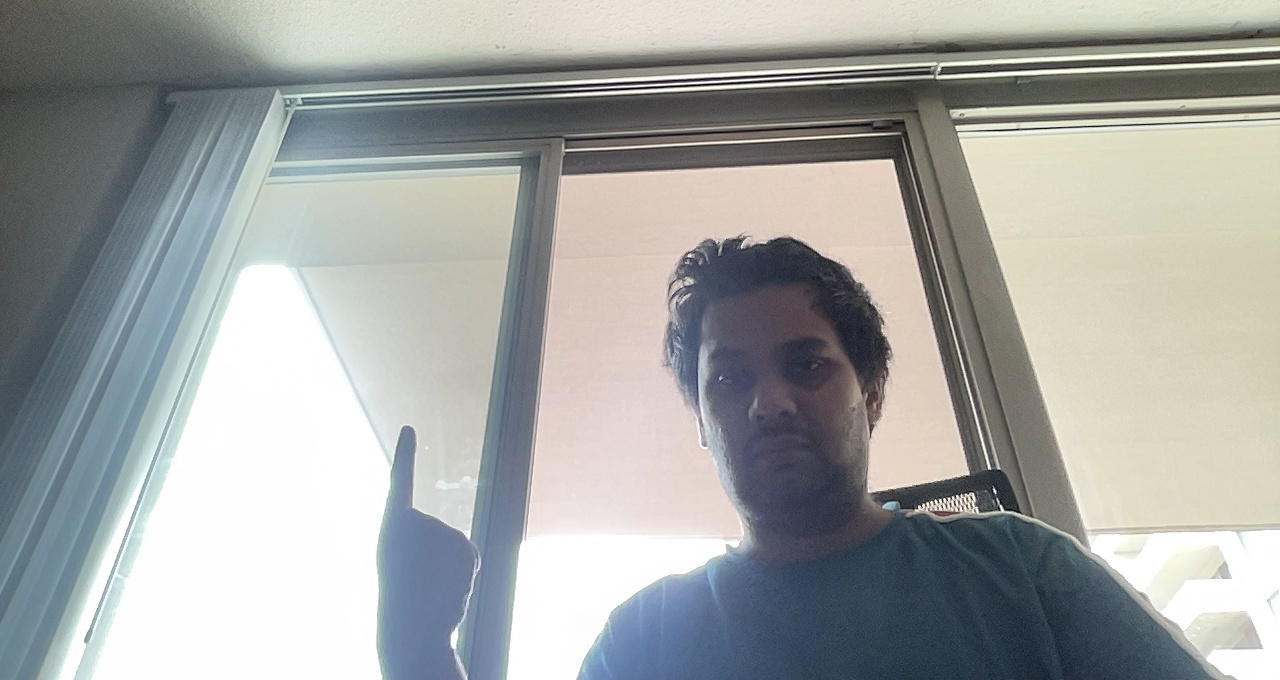fingerup: (365, 411, 499, 658)
